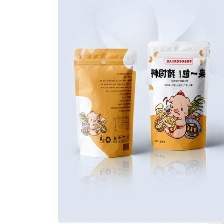snack: (68, 42, 141, 161), (142, 36, 215, 154)
